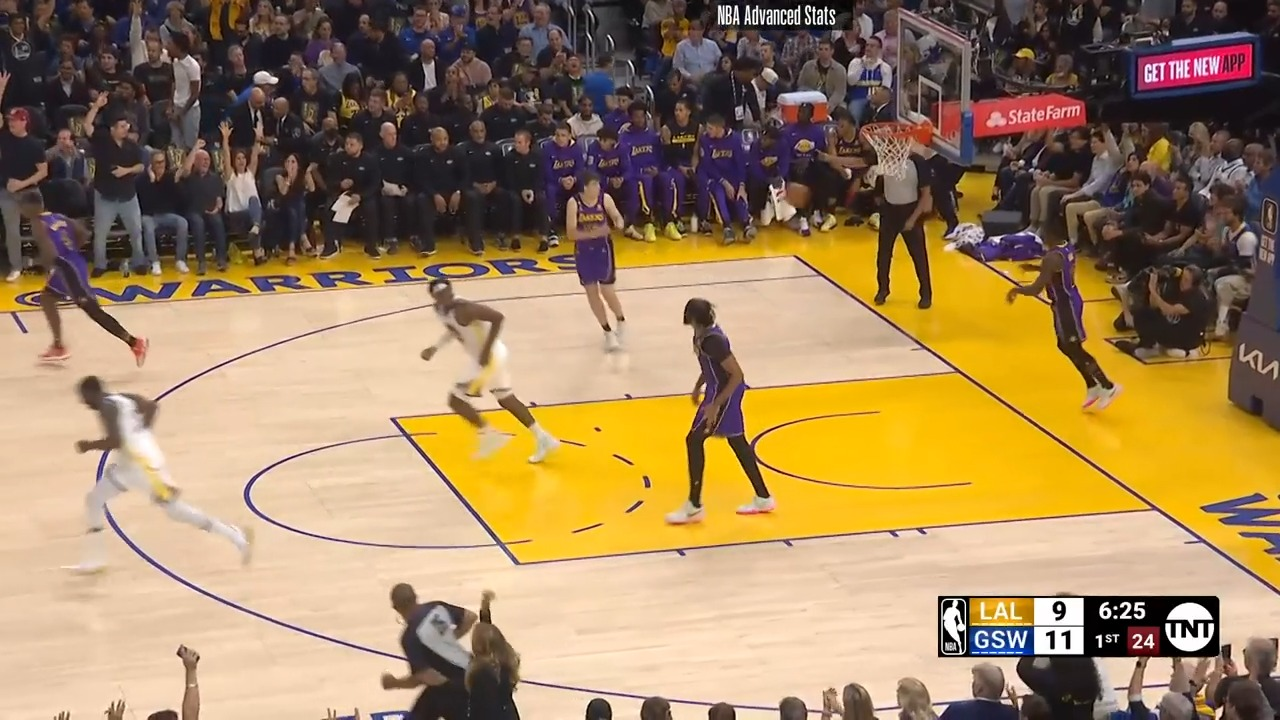net: (862, 111, 938, 189)
player: (65, 368, 256, 588), (413, 277, 559, 470), (670, 297, 778, 527), (16, 193, 155, 369), (1008, 219, 1126, 418), (557, 167, 632, 358)
referee: (379, 580, 501, 719), (860, 141, 937, 316)
